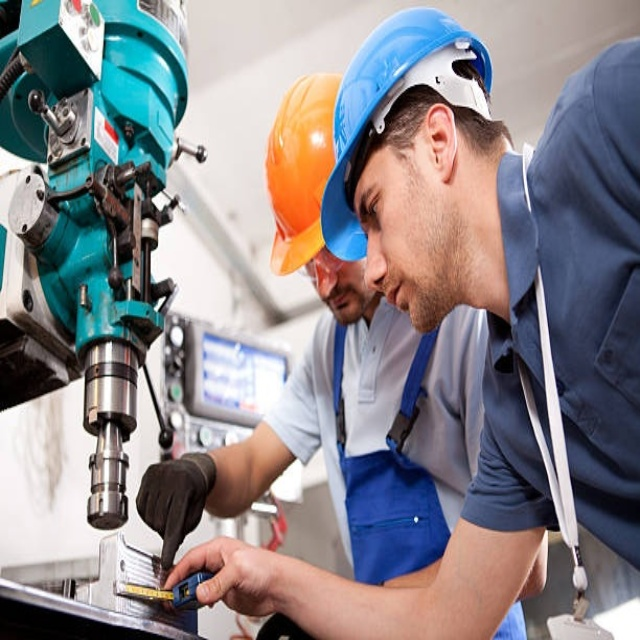Gafas: (293, 229, 343, 281)
Guantes: (136, 451, 217, 569)
Sin_gafas: (353, 154, 404, 251)
Sin_guantes: (176, 537, 291, 620)
Sin_mascara: (379, 278, 441, 334), (318, 285, 359, 325)
